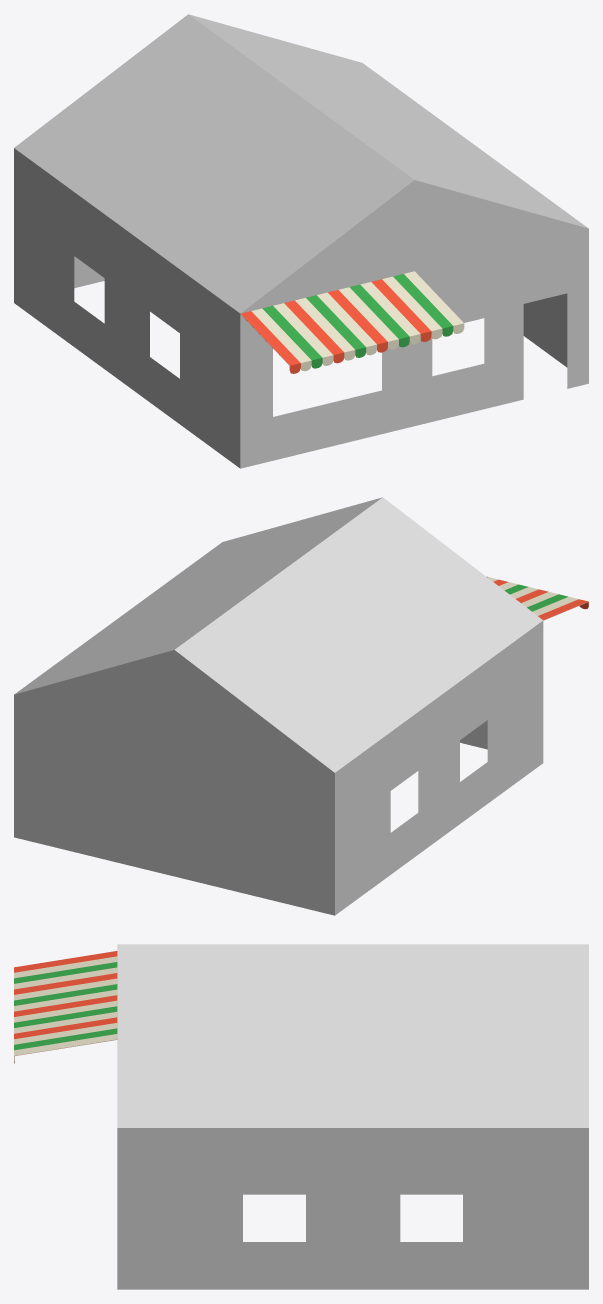
The model's file is pizzeria.gltf.
3 views of the same model, one above another, from view 1: azimuth 30°, elevation 25°; view 2: azimuth 150°, elevation 25°; view 3: azimuth 270°, elevation 25° (orthographic). The views are drawn at different scales.
Parts seen in each view (by area): view 1: Roof, Room, Marquee; view 2: Roof, Room, Marquee; view 3: Roof, Room, Marquee.
Boxes of the visible parts, x1,y1,x2,y2 form: Roof: [14, 14, 588, 313]; Room: [14, 148, 588, 468]; Marquee: [240, 271, 464, 373]; Roof: [14, 497, 542, 772]; Room: [14, 621, 543, 915]; Marquee: [487, 576, 588, 620]; Roof: [117, 944, 588, 1127]; Room: [117, 1128, 588, 1289]; Marquee: [14, 951, 117, 1063].
Size of the model in its own units: 8 by 5.4 by 10.97.
2 materials, 1 textured.
